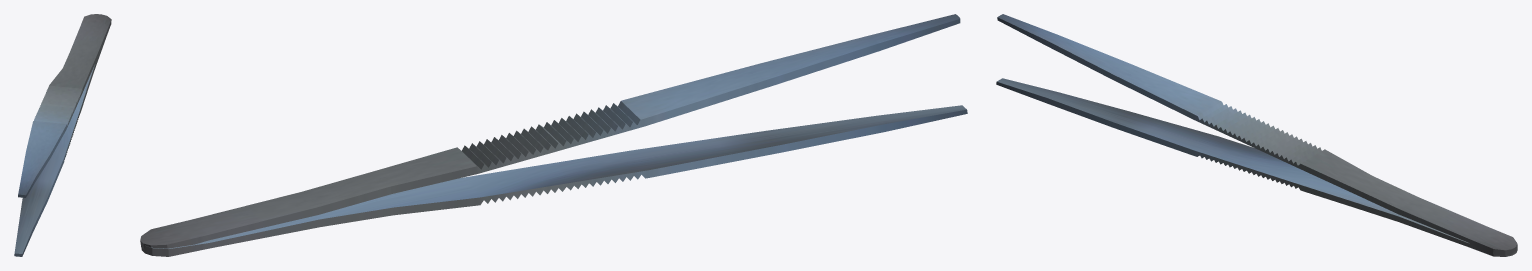
The model's file is chemical_tweezers.FBX.
The picture shows the model from 3 angles, left to right: view 1: azimuth 30°, elevation 25°; view 2: azimuth 150°, elevation 25°; view 3: azimuth 270°, elevation 25°; orthographic projection. The views are drawn at different scales.
Visible parts, largest first — view 1: chemical_tweezers; view 2: chemical_tweezers; view 3: chemical_tweezers.
Part boxes in pixels (x1,y1,x2,y2): chemical_tweezers: (14,14,111,256); chemical_tweezers: (140,14,967,256); chemical_tweezers: (996,14,1517,256).
Size of the model in its own units: 11.21 by 2.12 by 14.08.
1 material, 1 textured.
